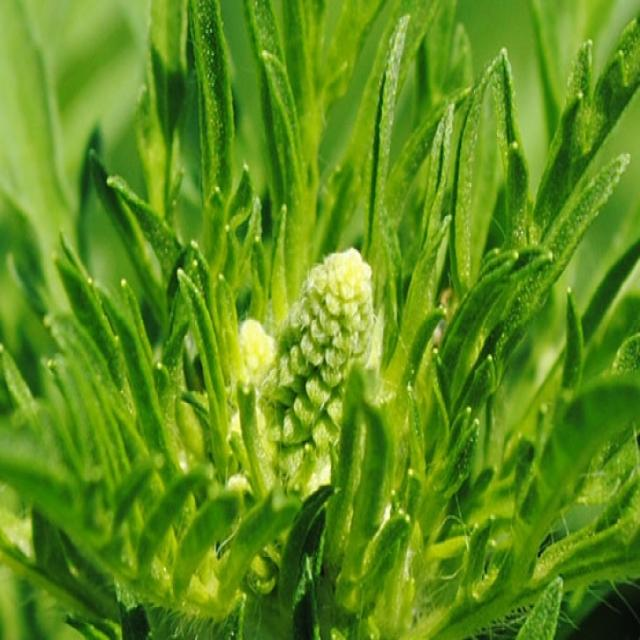ambrosia: (158, 132, 481, 512)
